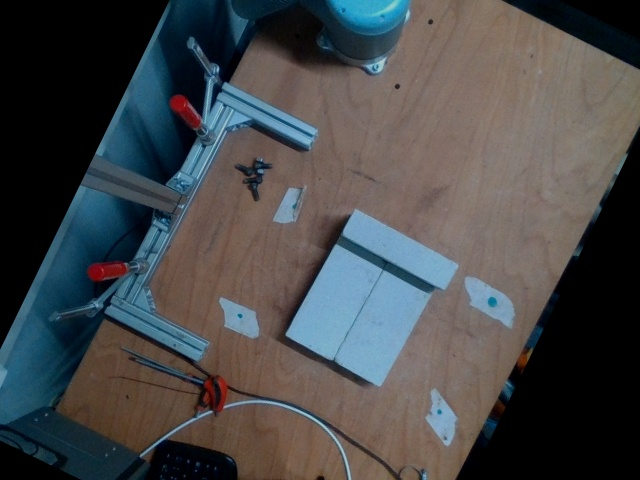brick-side: (340, 206, 461, 292)
